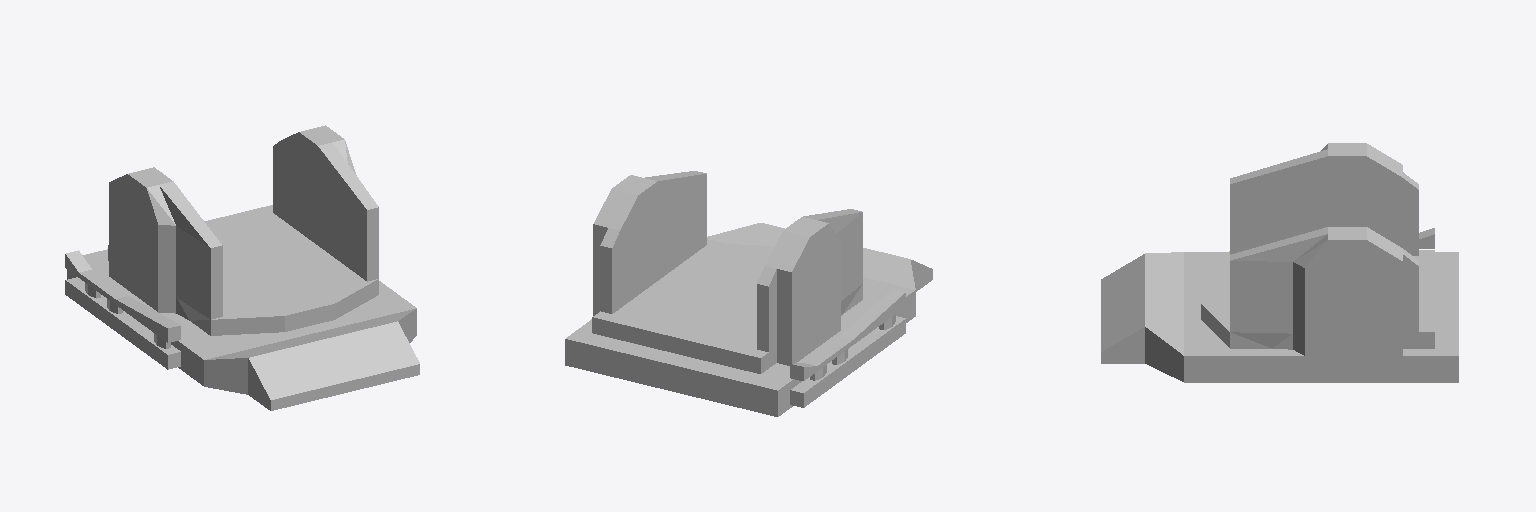
File: bigTurret.obj
The picture shows the model from 3 angles: view 1: azimuth 30°, elevation 25°; view 2: azimuth 150°, elevation 25°; view 3: azimuth 270°, elevation 25°; orthographic projection.
Visible parts, largest first — view 1: bigTurret; view 2: bigTurret; view 3: bigTurret.
Part boxes in pixels (left/top/right/bottom): bigTurret: left=65, top=125, right=419, bottom=410; bigTurret: left=565, top=171, right=932, bottom=416; bigTurret: left=1101, top=143, right=1458, bottom=382.
Bounding box in the file's own units: 1.03 × 0.6226 × 1.42.